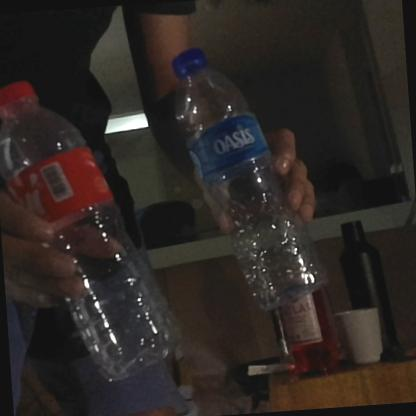plastic_bottles: (0, 68, 185, 380), (162, 38, 326, 308)
